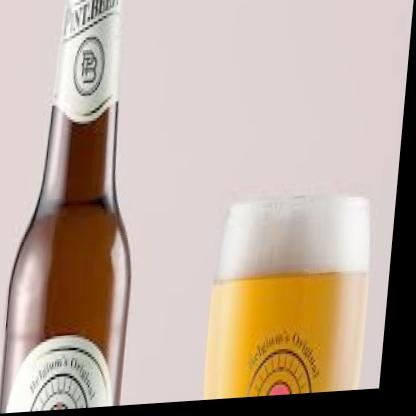trash: (1, 0, 129, 411), (205, 196, 369, 397)
